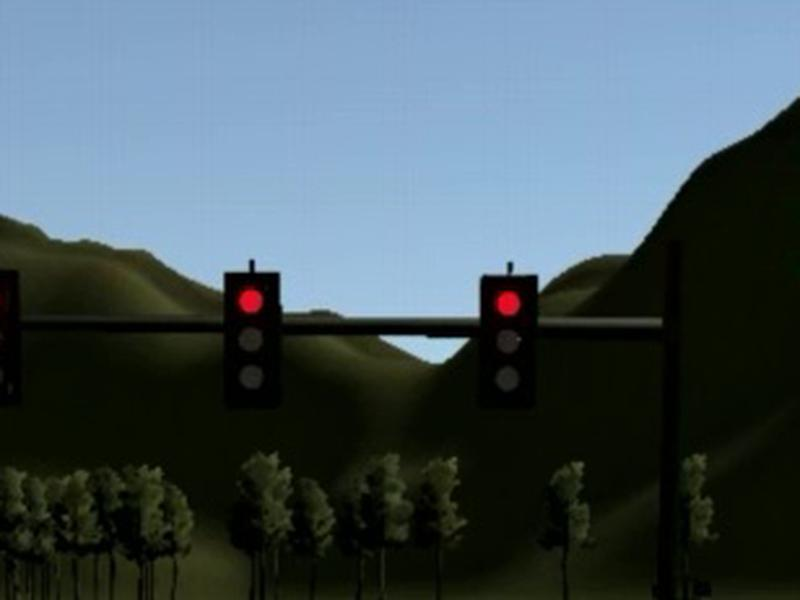Red: (222, 271, 280, 412), (481, 275, 538, 405)
